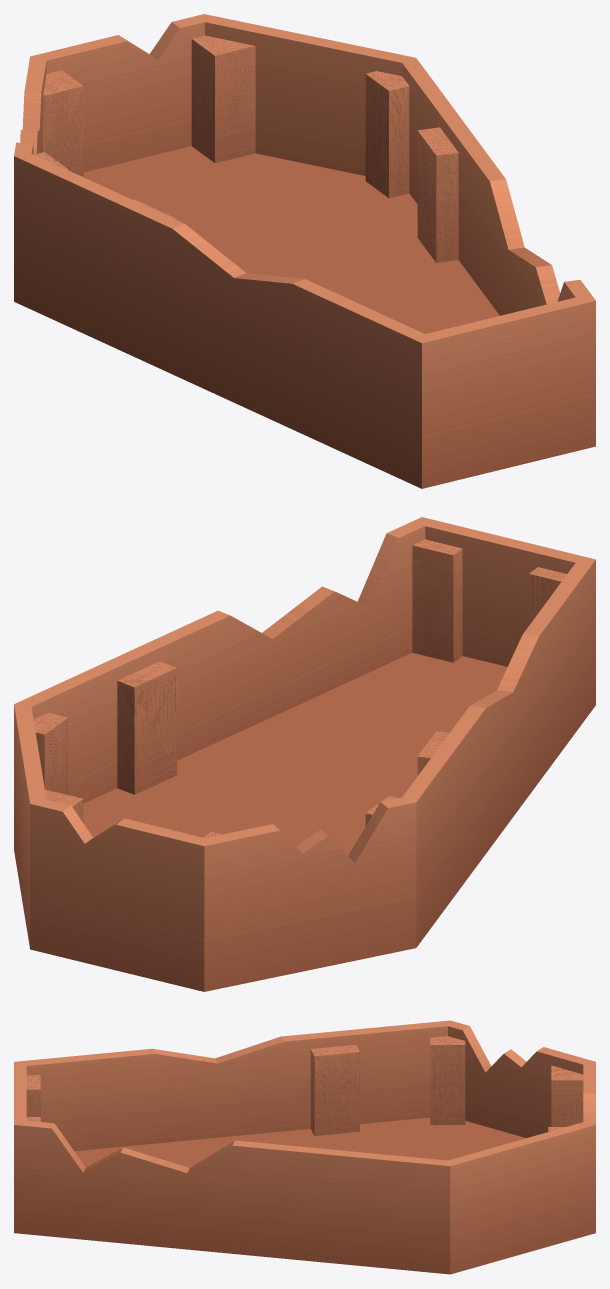
Rendered from coffin-old.glb.
The picture shows the model from 3 angles, top to bottom: view 1: azimuth 30°, elevation 25°; view 2: azimuth 150°, elevation 25°; view 3: azimuth 270°, elevation 25°; orthographic projection. The views are drawn at different scales.
Visible parts, largest first — view 1: coffin-old; view 2: coffin-old; view 3: coffin-old.
Part boxes in pixels (left/top/right/bottom): coffin-old: left=14, top=14, right=595, bottom=488; coffin-old: left=14, top=517, right=595, bottom=991; coffin-old: left=14, top=1020, right=595, bottom=1274.
Bounding box in the file's own units: 1.78 × 0.6156 × 3.
1 material, 1 textured.
